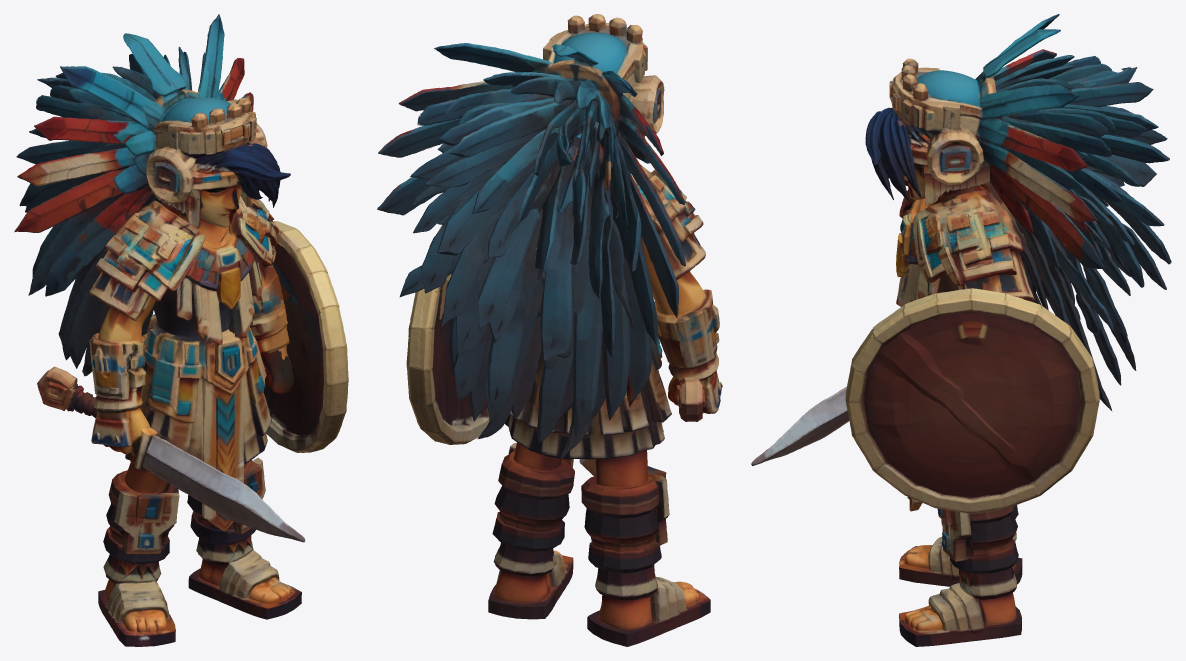
File: stripling_warrior.glb
3 renders of one model, left to right at view 1: azimuth 30°, elevation 25°; view 2: azimuth 150°, elevation 25°; view 3: azimuth 270°, elevation 25°, orthographic. The views are drawn at different scales.
Size of the model in its own units: 0.7773 by 1.56 by 1.05.
Materials: 1 (1 with a texture image).
